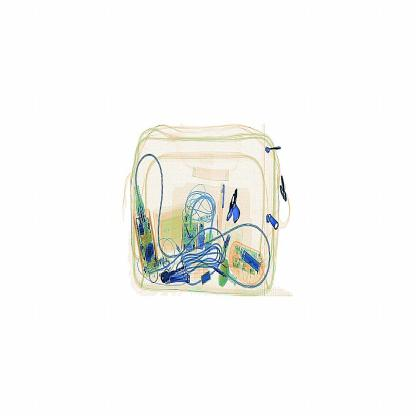wrench: (222, 171, 251, 232)
